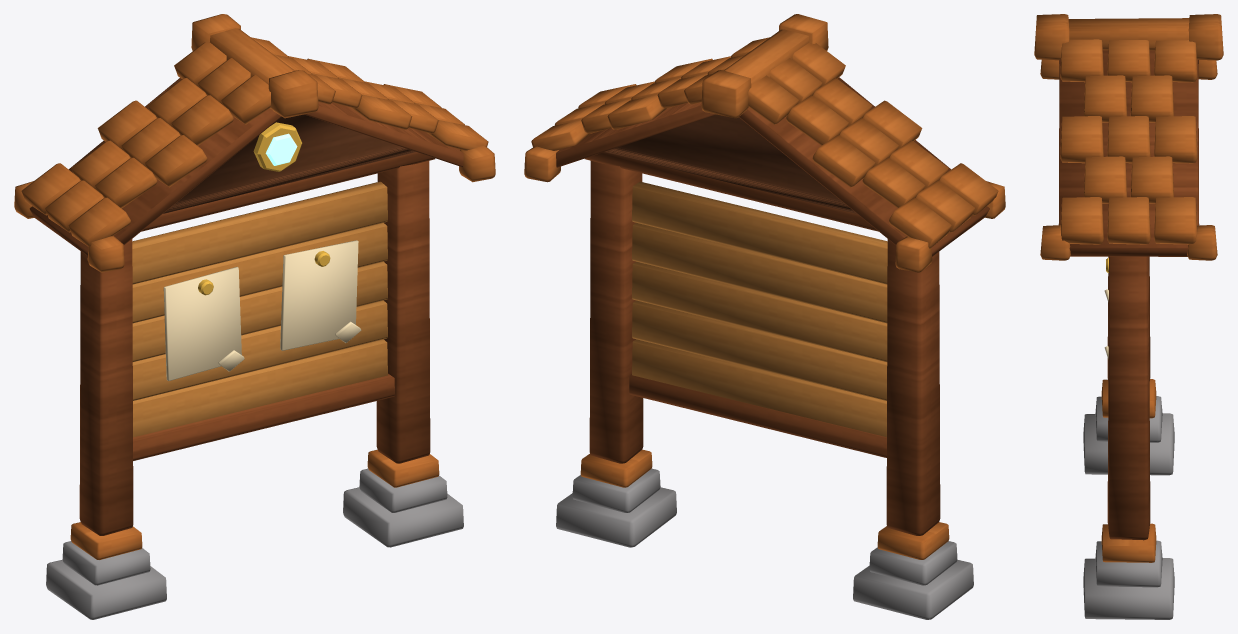
Rendered from OBJ04_quest_board.glb.
The picture shows the model from 3 angles, left to right: view 1: azimuth 30°, elevation 25°; view 2: azimuth 150°, elevation 25°; view 3: azimuth 270°, elevation 25°; orthographic projection.
Visible parts, largest first — view 1: BoardPlanks, RoofTiles, Post_-1, Post_1, RoofSlabs, Gable_1, Notice_-1, Notice_1, BottomRail, FootLow_-1, FootLow_1, TopBeam (+11 smaller); view 2: BoardPlanks, RoofTiles, Post_-1, Post_1, Gable_-1, RoofSlabs, BottomRail, FootLow_-1, FootLow_1, TopBeam, FootUp_-1, FootUp_1 (+7 smaller); view 3: RoofTiles, Post_1, RoofSlabs, FootLow_1, RidgeCap, FootLow_-1, FootUp_1, Collar_1, RidgeEnd_1, RidgeEnd_-1, FootUp_-1, EaveEnd_1_-1 (+5 smaller).
Part boxes in pixels (x1=…): BoardPlanks: x1=132, y1=181, x2=387, y2=437; RoofTiles: x1=21, y1=37, x2=488, y2=246; Post_-1: x1=79, y1=239, x2=133, y2=535; Post_1: x1=376, y1=161, x2=430, y2=463; RoofSlabs: x1=29, y1=78, x2=463, y2=255; Gable_1: x1=163, y1=114, x2=415, y2=213; Notice_-1: x1=163, y1=266, x2=241, y2=380; Notice_1: x1=280, y1=240, x2=358, y2=350; BottomRail: x1=133, y1=373, x2=394, y2=460; FootLow_-1: x1=46, y1=559, x2=166, y2=619; FootLow_1: x1=343, y1=487, x2=463, y2=547; TopBeam: x1=141, y1=152, x2=435, y2=231; BoardPlanks: x1=632, y1=181, x2=887, y2=437; RoofTiles: x1=531, y1=37, x2=998, y2=248; Post_-1: x1=886, y1=239, x2=940, y2=535; Post_1: x1=589, y1=161, x2=643, y2=463; Gable_-1: x1=604, y1=114, x2=856, y2=213; RoofSlabs: x1=556, y1=77, x2=989, y2=256; BottomRail: x1=629, y1=374, x2=886, y2=457; FootLow_-1: x1=853, y1=559, x2=973, y2=619; FootLow_1: x1=556, y1=487, x2=676, y2=547; TopBeam: x1=585, y1=152, x2=878, y2=231; FootUp_-1: x1=869, y1=541, x2=957, y2=585; FootUp_1: x1=572, y1=468, x2=660, y2=512; RoofTiles: x1=1060, y1=39, x2=1197, y2=244; Post_1: x1=1107, y1=256, x2=1150, y2=540; RoofSlabs: x1=1058, y1=50, x2=1199, y2=256; FootLow_1: x1=1083, y1=558, x2=1174, y2=619; RidgeCap: x1=1068, y1=18, x2=1189, y2=50; FootLow_-1: x1=1083, y1=413, x2=1174, y2=475; FootUp_1: x1=1095, y1=540, x2=1162, y2=587; Collar_1: x1=1101, y1=523, x2=1156, y2=562; RidgeEnd_1: x1=1034, y1=14, x2=1069, y2=60; RidgeEnd_-1: x1=1188, y1=14, x2=1223, y2=60; FootUp_-1: x1=1095, y1=396, x2=1162, y2=442; EaveEnd_1_-1: x1=1040, y1=225, x2=1070, y2=260.
Size of the model in its own units: 1.52 by 1.84 by 0.62.
8 materials, 4 textured.
